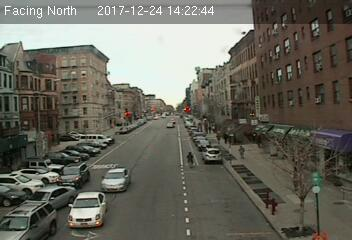bicycle: (186, 151, 195, 170)
car: (1, 199, 55, 240), (69, 191, 107, 228), (23, 184, 76, 208), (100, 167, 131, 193), (56, 163, 89, 187), (204, 148, 222, 163)
